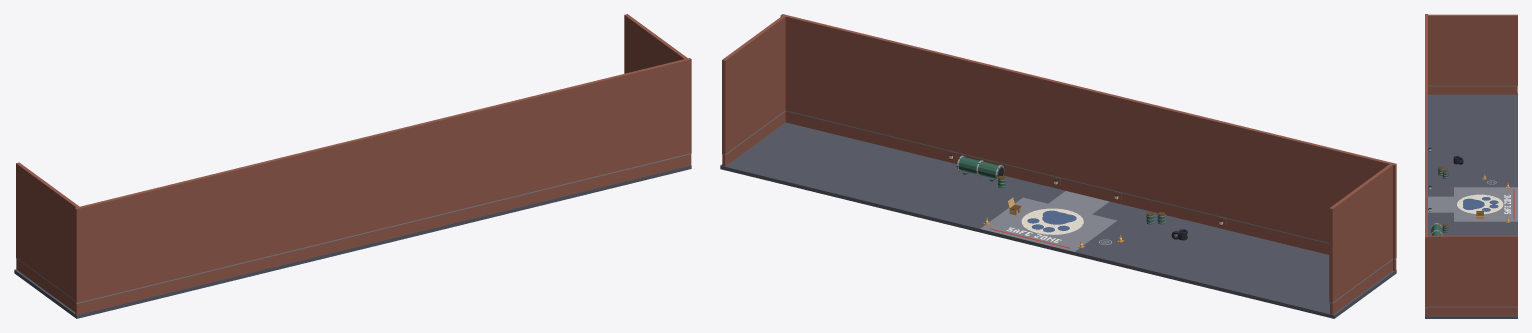
Rendered from CatCafe_Camp_Sewer.glb.
The picture shows the model from 3 angles, left to right: view 1: azimuth 30°, elevation 25°; view 2: azimuth 150°, elevation 25°; view 3: azimuth 270°, elevation 25°; orthographic projection. The views are drawn at different scales.
Visible parts, largest first — view 1: CatCafe_Camp_Sewer_Barrier, CatCafe_Camp_Sewer; view 2: CatCafe_Camp_Sewer_Barrier, CatCafe_Camp_Sewer, CatCafe_Camp_Sewer_002_PipeLarge; view 3: CatCafe_Camp_Sewer, CatCafe_Camp_Sewer_Barrier, CatCafe_Camp_Sewer_002_PipeLarge, CatCafe_Camp_Sewer_012_TyreStack.
Boxes of the visible parts, bbox=[...] form: CatCafe_Camp_Sewer_Barrier: bbox=[16, 14, 691, 302]; CatCafe_Camp_Sewer: bbox=[14, 153, 691, 318]; CatCafe_Camp_Sewer_Barrier: bbox=[722, 14, 1396, 302]; CatCafe_Camp_Sewer: bbox=[720, 110, 1396, 318]; CatCafe_Camp_Sewer_002_PipeLarge: bbox=[956, 155, 1004, 181]; CatCafe_Camp_Sewer: bbox=[1425, 85, 1517, 318]; CatCafe_Camp_Sewer_Barrier: bbox=[1425, 14, 1517, 306]; CatCafe_Camp_Sewer_002_PipeLarge: bbox=[1430, 223, 1442, 235]; CatCafe_Camp_Sewer_012_TyreStack: bbox=[1453, 156, 1463, 164].
Size of the model in its own units: 182 by 31 by 32.
Materials: 1 (1 with a texture image).
